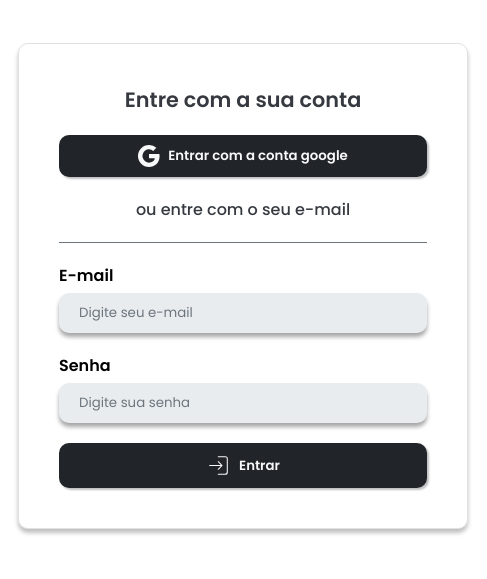
Test case: Login › Should show error when trying to submit witout filling required fields
Click the button "Entrar".
click(243, 466)  # box x1=59 y1=443 x2=427 y2=488
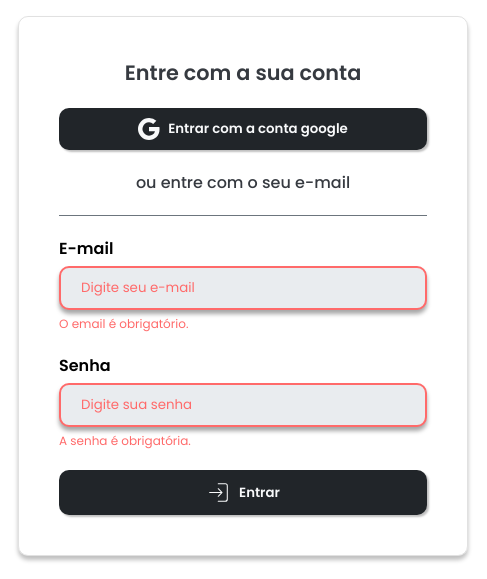
Result: the text "O email é obrigatório." is shown at x1=59 y1=315 x2=188 y2=332
Result: the text "A senha é obrigatória." is shown at x1=59 y1=432 x2=191 y2=449
